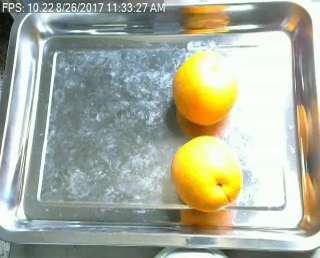Orange: (171, 134, 241, 211), (171, 50, 236, 124)
